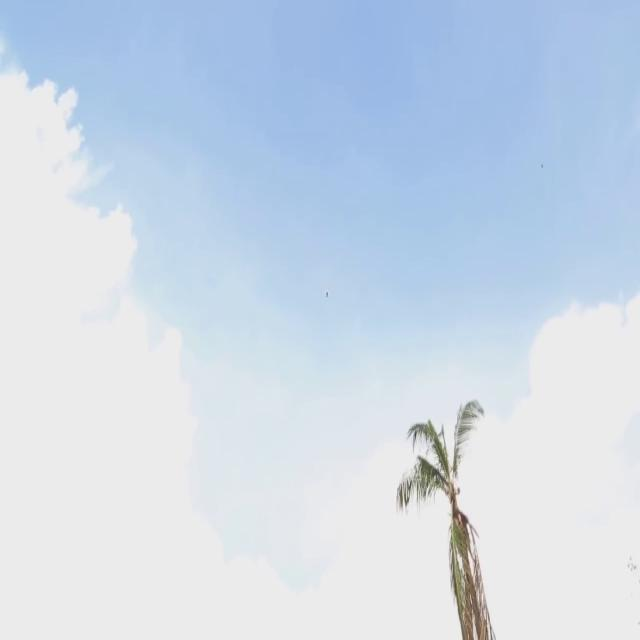drone: (322, 288, 332, 300)
